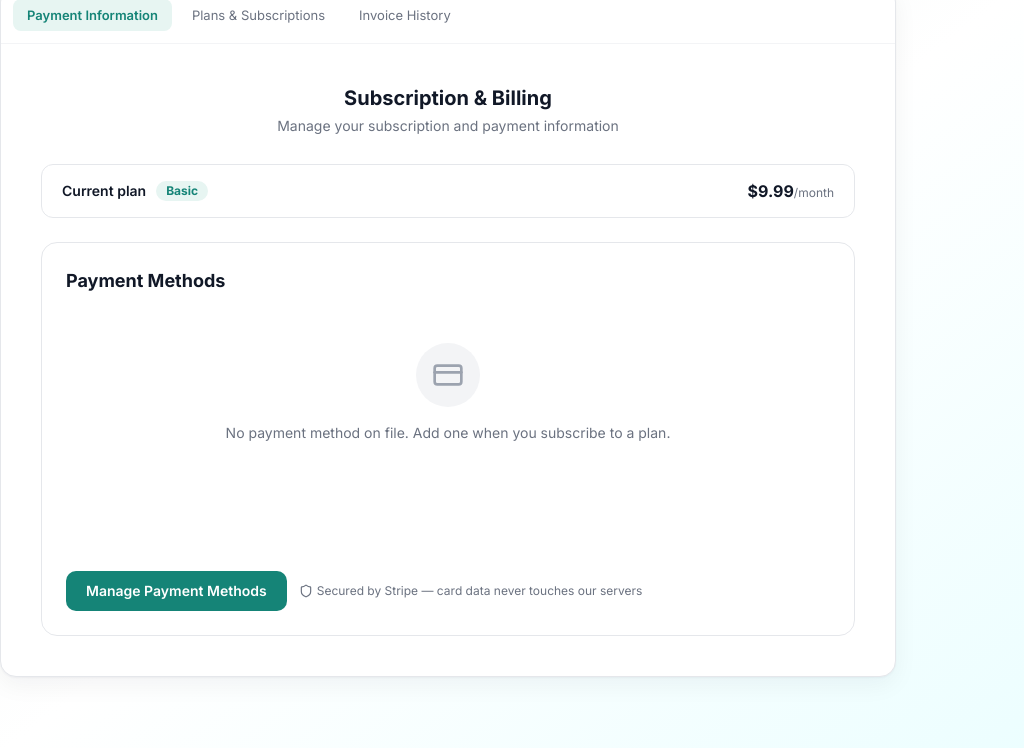
Billing Page Integration › plan change confirmation › names the plan, cycle and price being confirmed
Click the text "Plans & Subscriptions" at [258, 15], box [192,7,325,23]
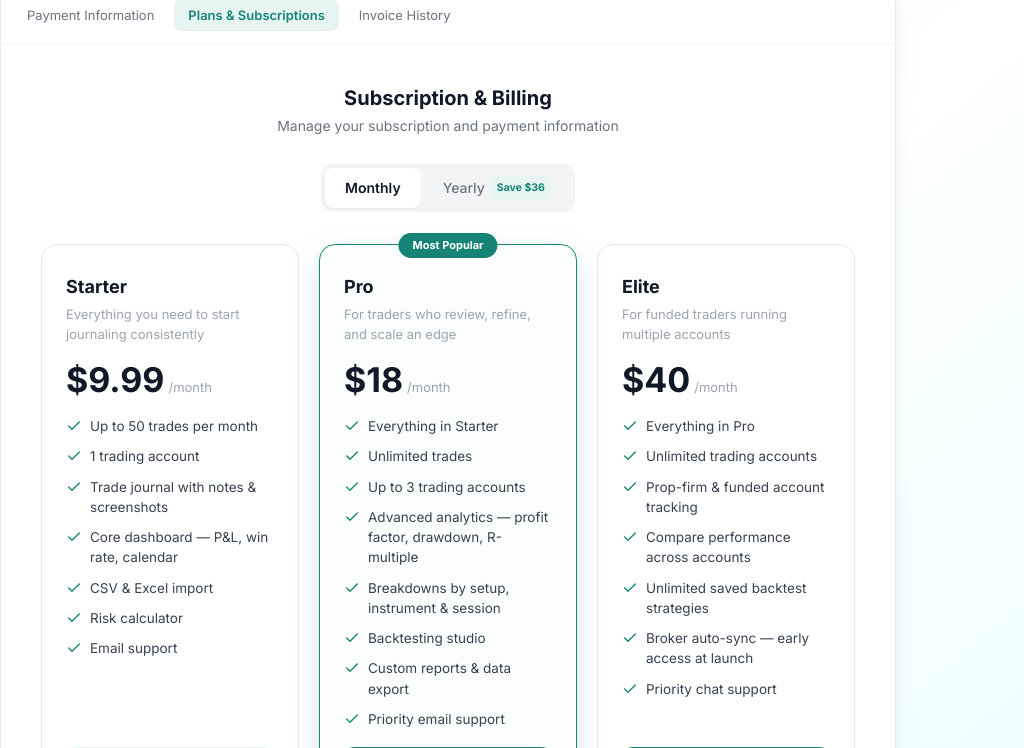
Click the button "Yearly Save $36" at [497, 188], box [423,168,571,208]
(page scrolled)
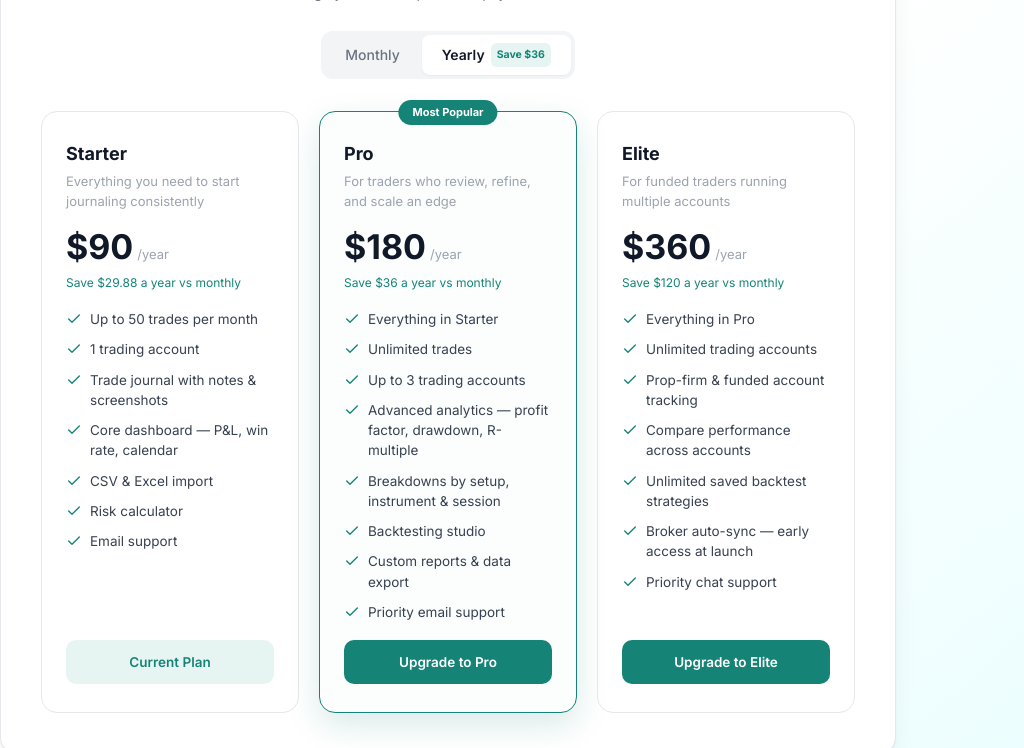
Click the button "Upgrade to Pro" at [448, 662], box [344,640,552,684]
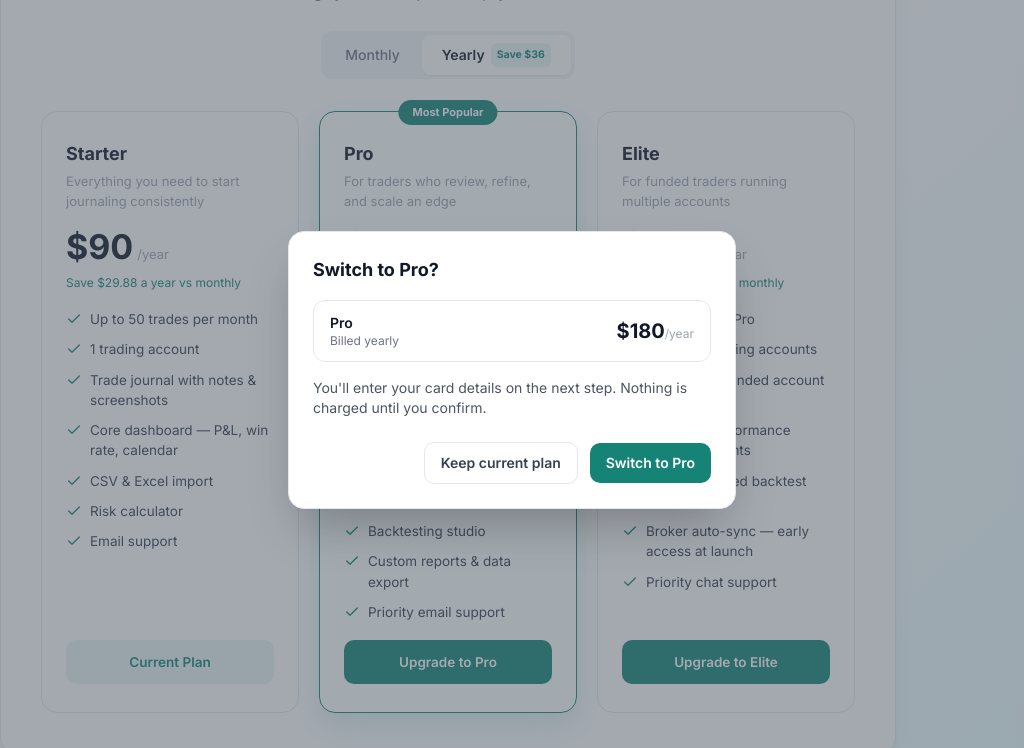
Expected: the text with test id "billing-plan-confirm-price" reads "$180", [616,319,665,343]
Expected: the text with test id "billing-plan-confirm-message" shows "card details on the next step", [313,379,687,416]
